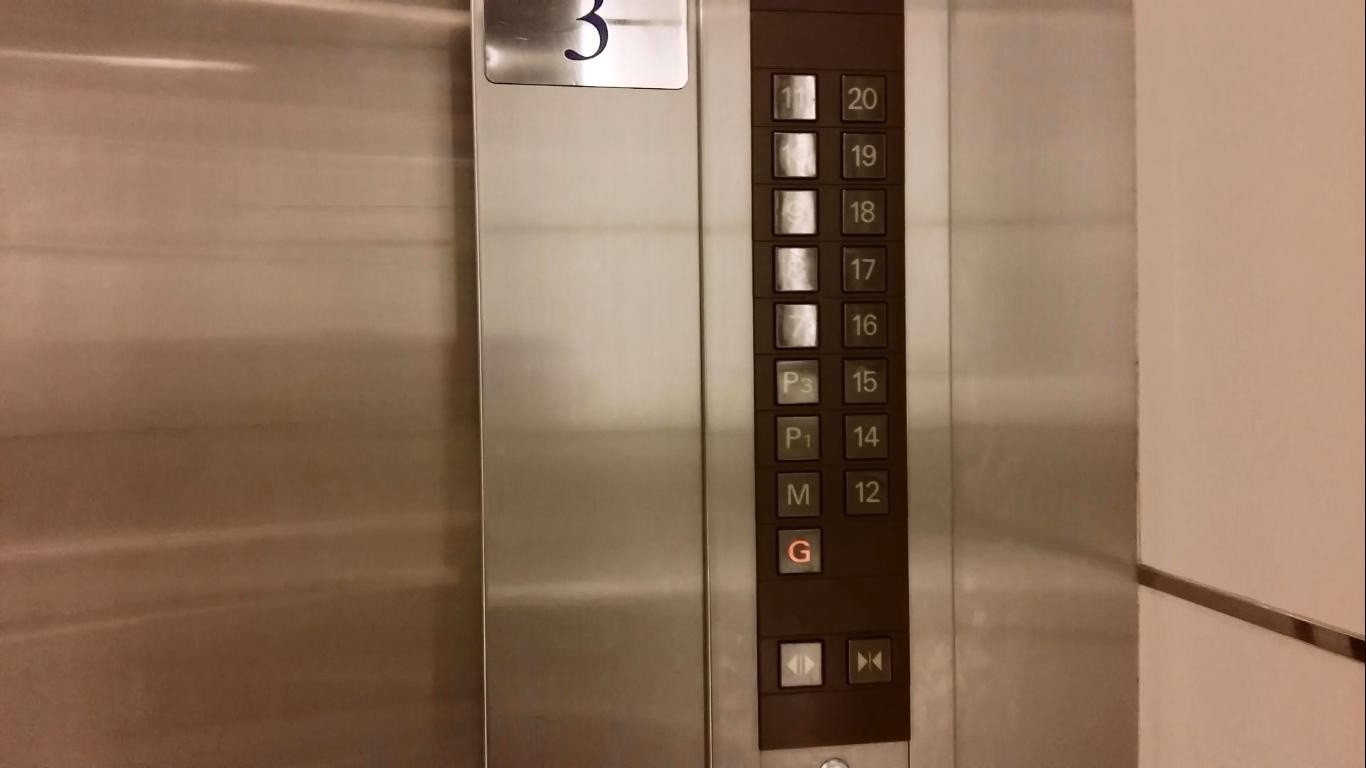10: (771, 129, 818, 179)
11: (772, 72, 819, 122)
12: (844, 468, 892, 517)
14: (843, 412, 891, 461)
15: (842, 358, 890, 406)
16: (842, 302, 890, 351)
17: (840, 247, 888, 295)
18: (841, 189, 889, 238)
19: (840, 131, 887, 181)
20: (839, 73, 887, 124)
7: (773, 300, 820, 351)
8: (771, 245, 820, 294)
9: (772, 189, 819, 237)
G: (775, 526, 823, 577)
M: (774, 471, 823, 519)
P1: (774, 413, 822, 463)
P3: (774, 357, 822, 407)
close: (846, 637, 893, 687)
open: (779, 641, 825, 689)
